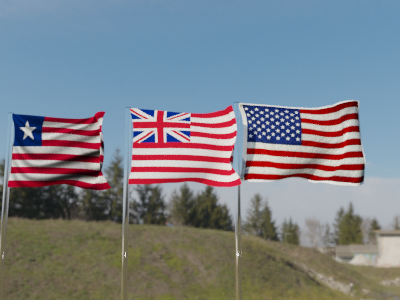America flag: (242, 99, 363, 184)
Liberia flag: (10, 112, 112, 191)
Malaysia flag: (129, 107, 239, 187)
